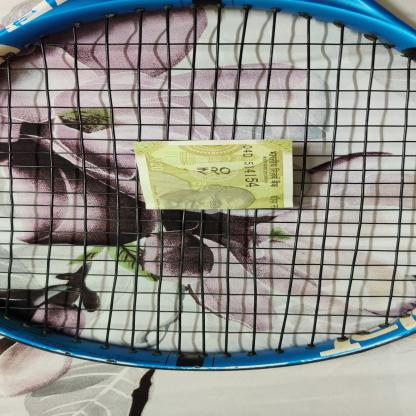New20Front: (128, 138, 300, 212)
